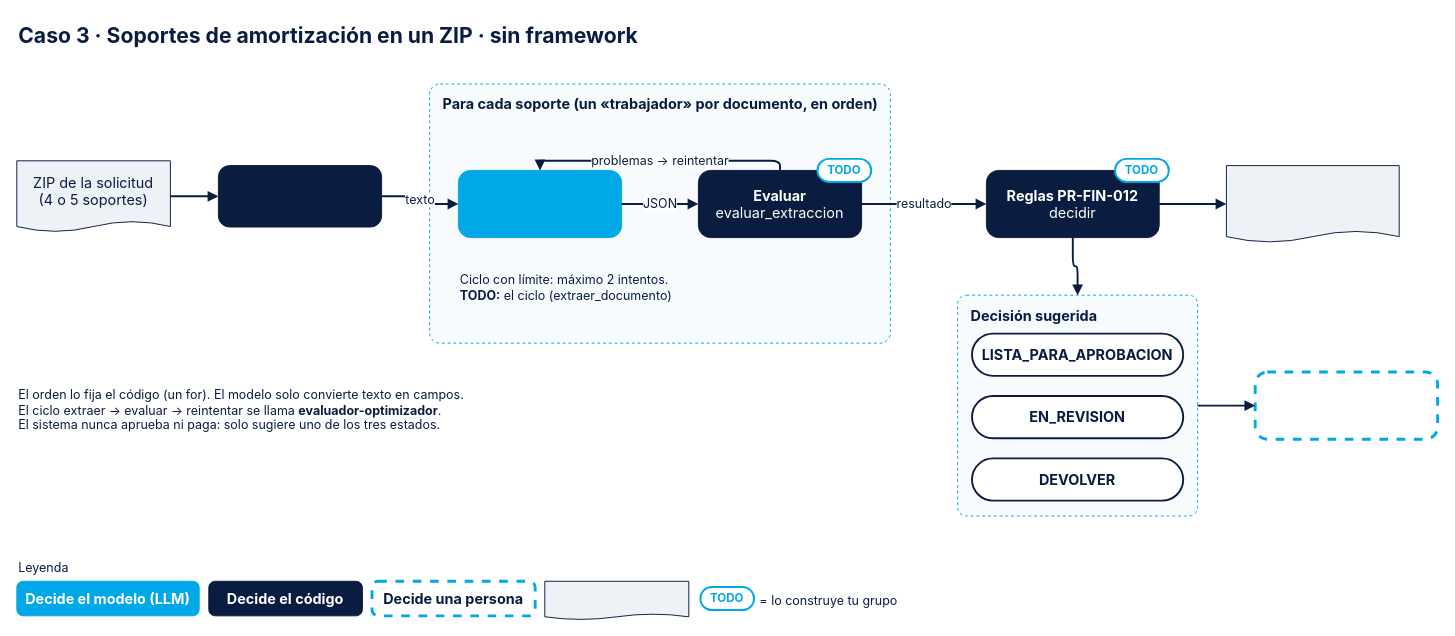
This 1455x636 diagram has some shape labels left out. The centre of each missing label's shape, as x and y in pixels:
Abrir el ZIP seguro abrir_zip: (299,196)
Dato o resultado: (616,600)
Extraer campos modelo + JSON Schema: (539,203)
Resumen .md y .json (huella SHA-256): (1312,203)
Una persona aprueba, revisa o devuelve: (1346,405)
